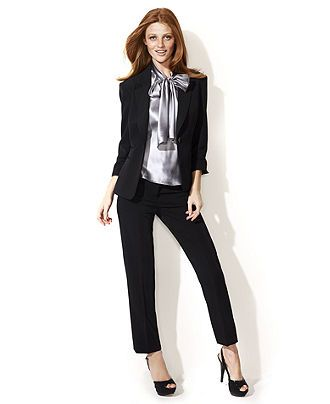F_W_suit jacket: (107, 64, 217, 193)
